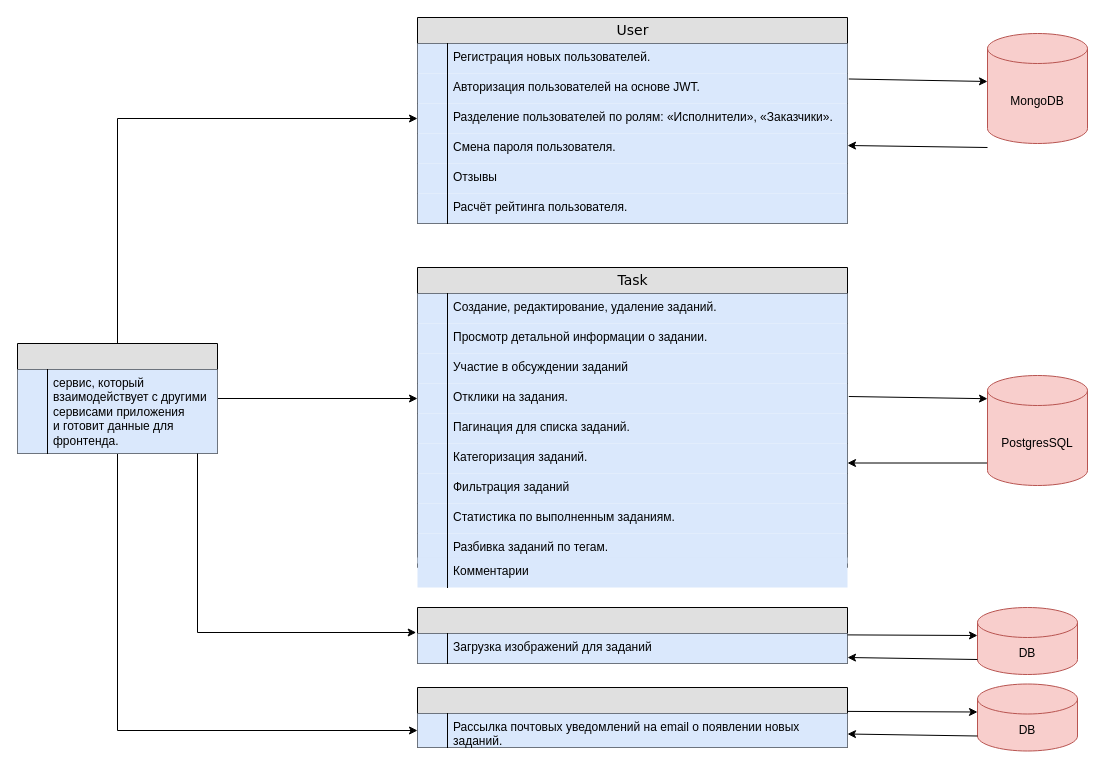
The diagram is 1105 pixels wide and 769 high, and some of its shapes have lost their labels. The box of each missing label's shape, as (x1, y1, x2, y2) in pixels:
Notification: (416, 686, 848, 748)
Service: (16, 342, 218, 454)
Uploader: (416, 606, 848, 664)
